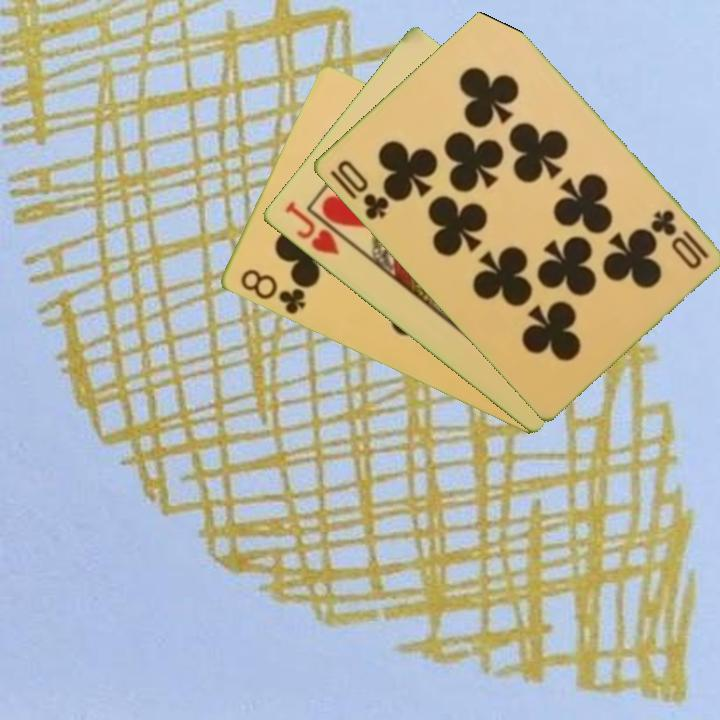10c: (646, 206, 711, 272), (333, 156, 392, 223)
8c: (236, 265, 308, 318)
Jh: (280, 197, 355, 258)
